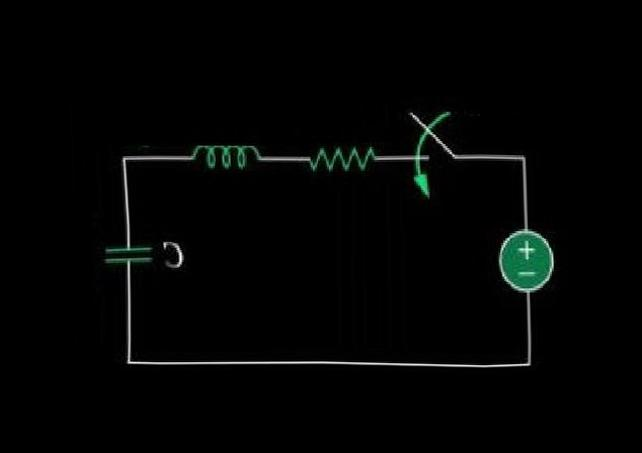Battery: (470, 209, 566, 307)
